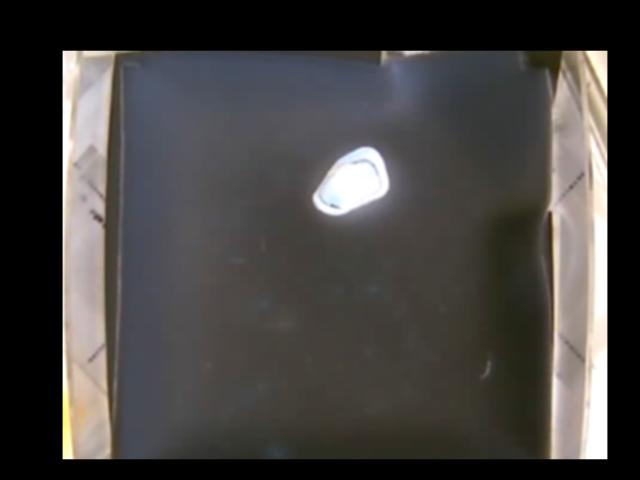Pebble: (312, 146, 391, 215)
